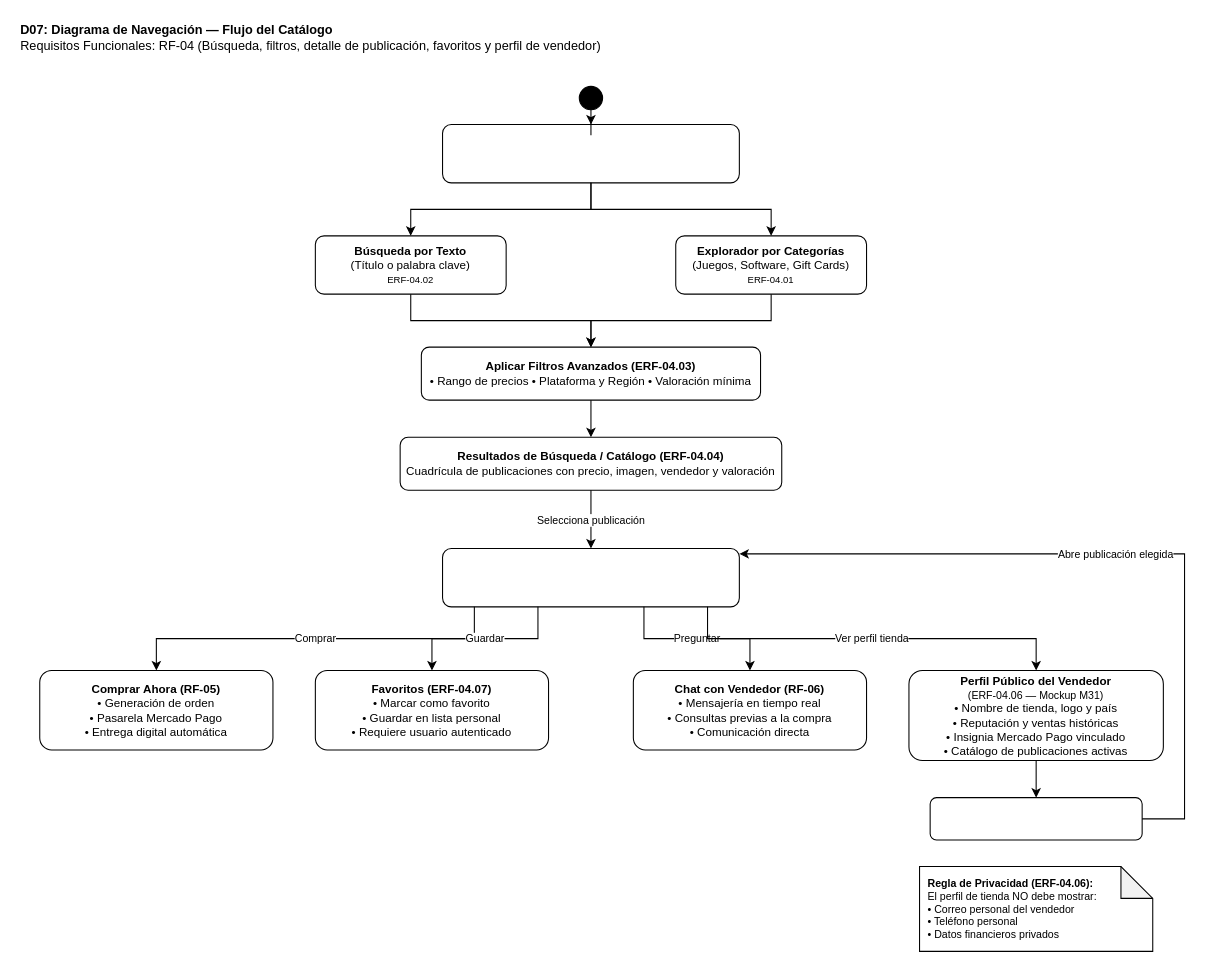
Some shapes in this 1212 by 970 pixel diagram are drawn without their labels. Here are the shapes that lost their labels. From the top down, the box of each, then its label:
(441, 123, 739, 183): Catálogo Principal Vista general de productos digitales activos
(441, 547, 739, 607): Detalle de la Publicación
(929, 797, 1142, 840): Ver otra publicación del vendedor
